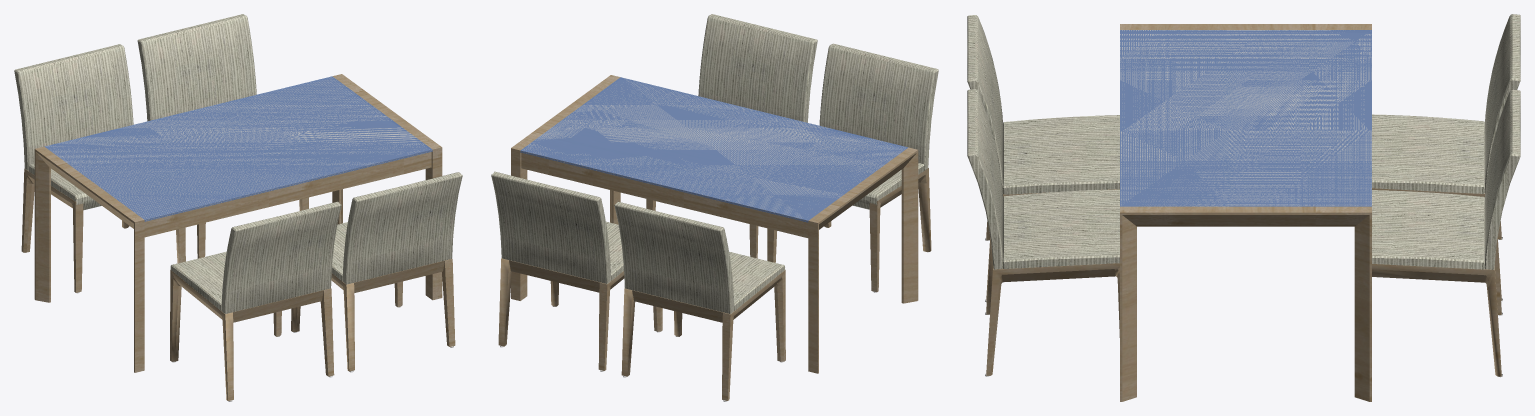
The model's file is Dining Table U.06.dae.
3 renders of one model, left to right at view 1: azimuth 30°, elevation 25°; view 2: azimuth 150°, elevation 25°; view 3: azimuth 270°, elevation 25°, orthographic. The views are drawn at different scales.
Visible parts, largest first — view 1: Obj_000004_1 (×8), group_1, group_2 (×3), Obj_000002_1 (×3), Obj_000003_1 (×2), Obj_000001_1 (×2), Obj_000005_1 (×2); view 2: Obj_000004_1 (×8), group_1, group_2 (×3), Obj_000003_1 (×3), Obj_000002_1 (×2), Obj_000001_1 (×2), Obj_000005_1 (×2); view 3: group_1, Obj_000005_1 (×8), group_2 (×2), Obj_000004_1 (×10), Obj_000002_1 (×2), Obj_000003_1.
Part boxes in pixels (<box>): Obj_000004_1 (×8): <box>14,15,461,313</box>; group_1: <box>44,76,432,221</box>; group_2 (×3): <box>34,74,442,372</box>; Obj_000002_1 (×3): <box>21,169,455,376</box>; Obj_000003_1 (×2): <box>170,266,354,400</box>; Obj_000001_1 (×2): <box>233,260,444,322</box>; Obj_000005_1 (×2): <box>173,222,347,303</box>; Obj_000004_1 (×8): <box>491,15,938,313</box>; group_1: <box>520,77,908,222</box>; group_2 (×3): <box>511,75,918,373</box>; Obj_000003_1 (×3): <box>498,168,931,376</box>; Obj_000002_1 (×2): <box>598,264,785,400</box>; Obj_000001_1 (×2): <box>509,260,722,322</box>; Obj_000005_1 (×2): <box>606,221,782,305</box>; group_1: <box>1120,30,1371,206</box>; Obj_000005_1 (×8): <box>1003,114,1484,269</box>; group_2 (×2): <box>1120,24,1371,401</box>; Obj_000004_1 (×10): <box>968,14,1519,269</box>; Obj_000002_1 (×2): <box>986,263,1119,375</box>; Obj_000003_1: <box>1372,264,1501,376</box>.
Bounding box in the file's own units: 62.73 × 77.85 × 34.7.
7 materials, 4 textured.
